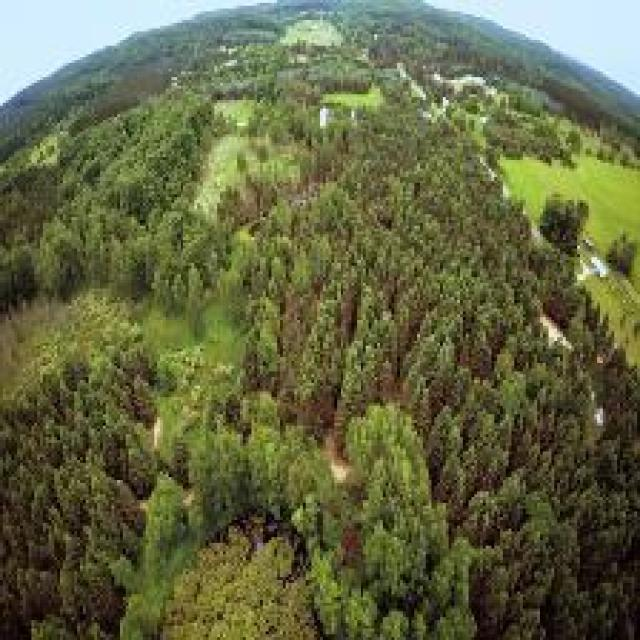other: (96, 458, 466, 597)
